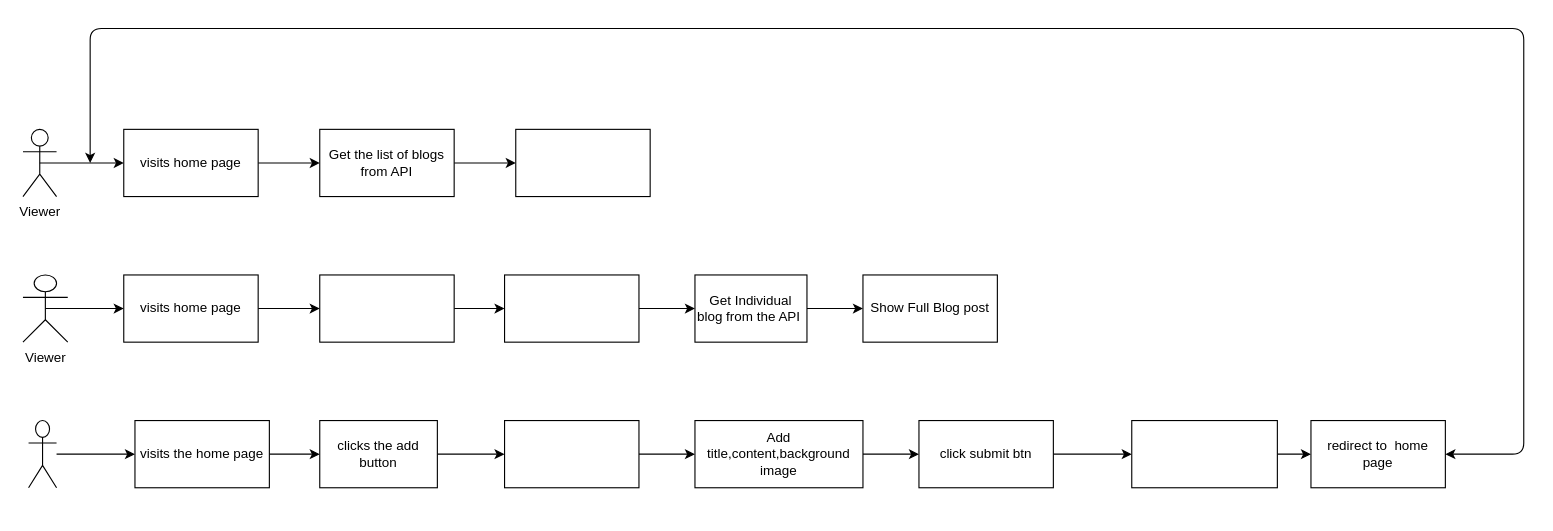
Some shapes in this 1553 by 531 pixel diagram are drawn without their labels. Each missing label, with the box of its shape:
Add to the API: (1131, 419, 1277, 488)
Admin: (27, 419, 57, 488)
redirect to the new post page: (503, 419, 639, 488)
redirect to the post page: (503, 274, 639, 342)
select the individual blog post: (319, 274, 454, 342)
show the list of blog posts: (515, 128, 650, 197)
